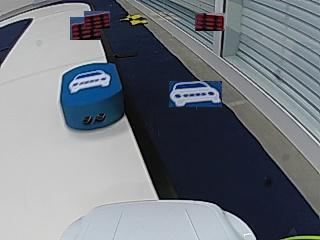safety: (69, 70, 112, 92)
